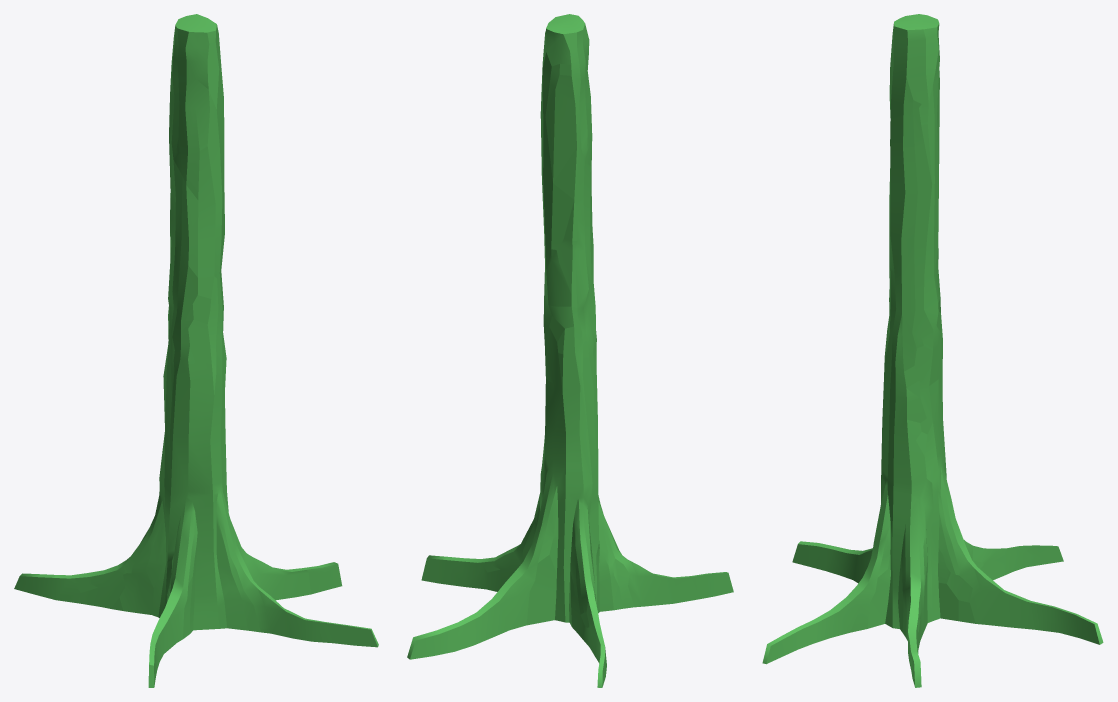
The model's file is jungle_big_tree_A.fbx.
3 renders of one model, left to right at view 1: azimuth 30°, elevation 25°; view 2: azimuth 150°, elevation 25°; view 3: azimuth 270°, elevation 25°, orthographic.
Parts seen in each view (by area): view 1: jungle_big_tree_A; view 2: jungle_big_tree_A; view 3: jungle_big_tree_A.
Part boxes in pixels (x1,y1,x2,y2): jungle_big_tree_A: (14, 14, 378, 687); jungle_big_tree_A: (407, 14, 733, 687); jungle_big_tree_A: (762, 14, 1103, 687).
Bounding box in the file's own units: 392 × 880 × 456.
